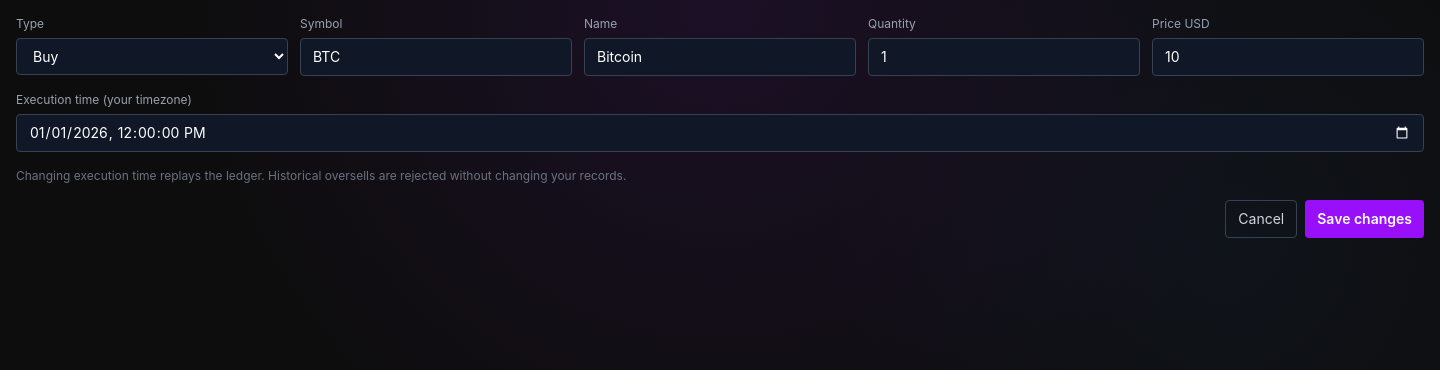
Test: rejects a future execution date without submitting
This screenshot has width=1440, height=370.
Replace the text in the field labelled "Execution time (your timezone)" with "2999-01-01T12:00:00" at (720, 133), box [16,114,1424,152]
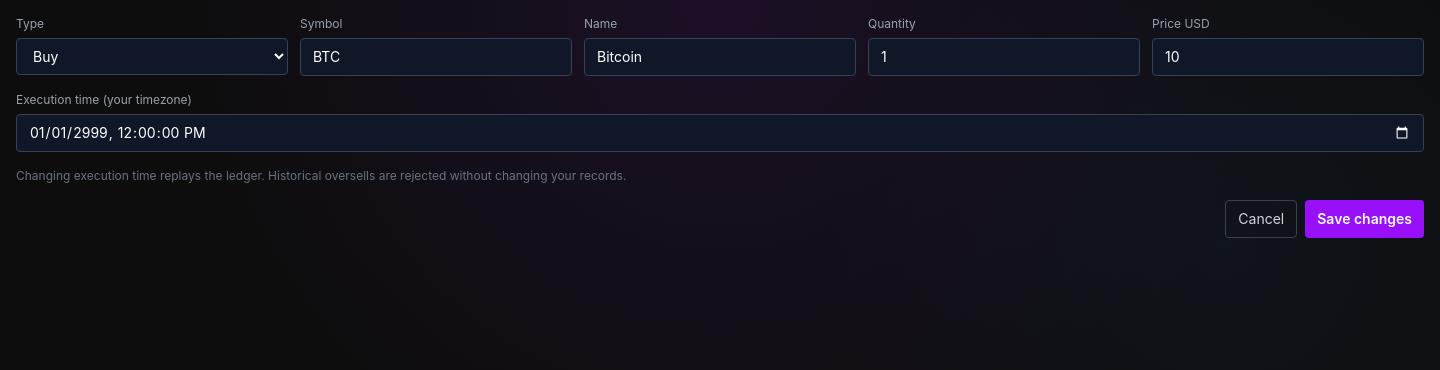
Submit the form
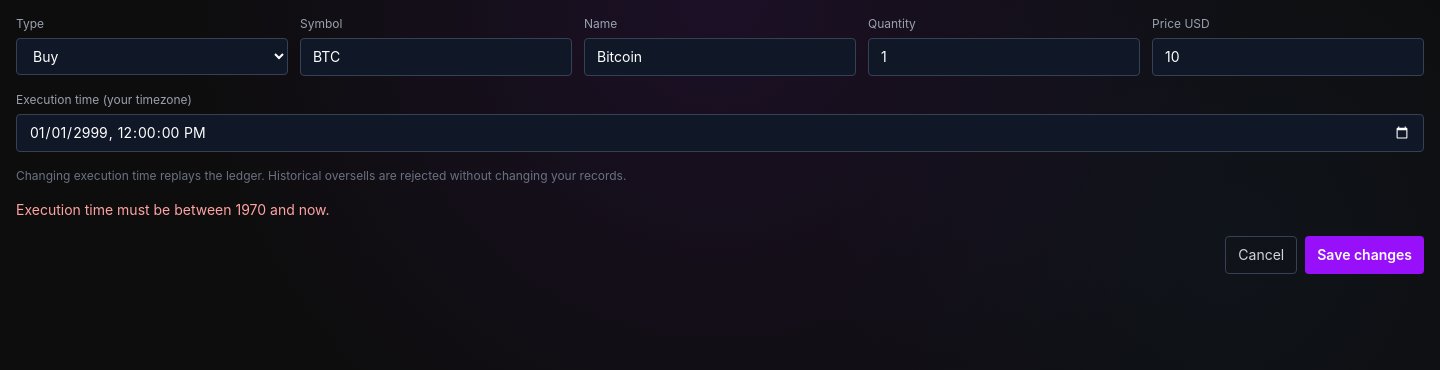
Result: the message reads "Execution time must be between 1970 and now." at [16,201,330,218]
